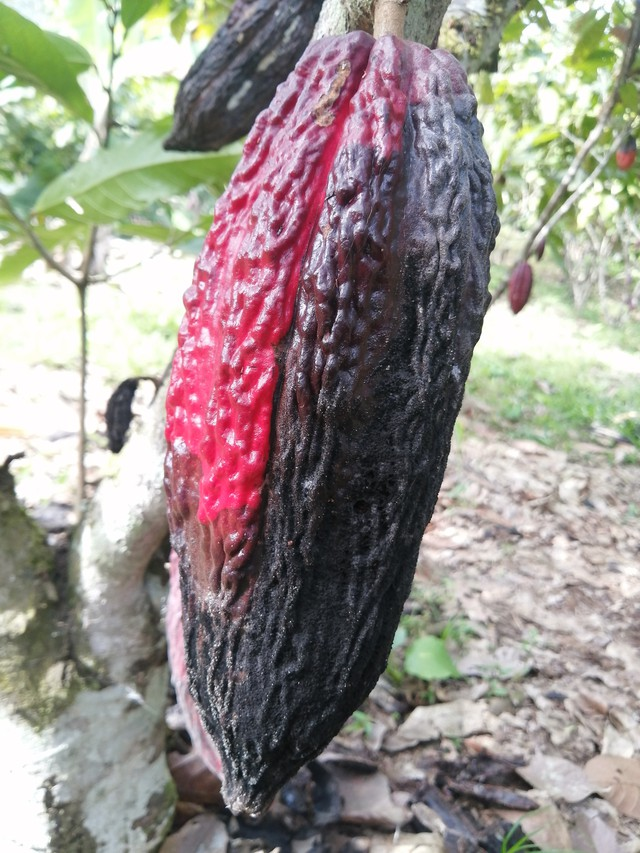moniliophthora roreri: (128, 20, 515, 830)
